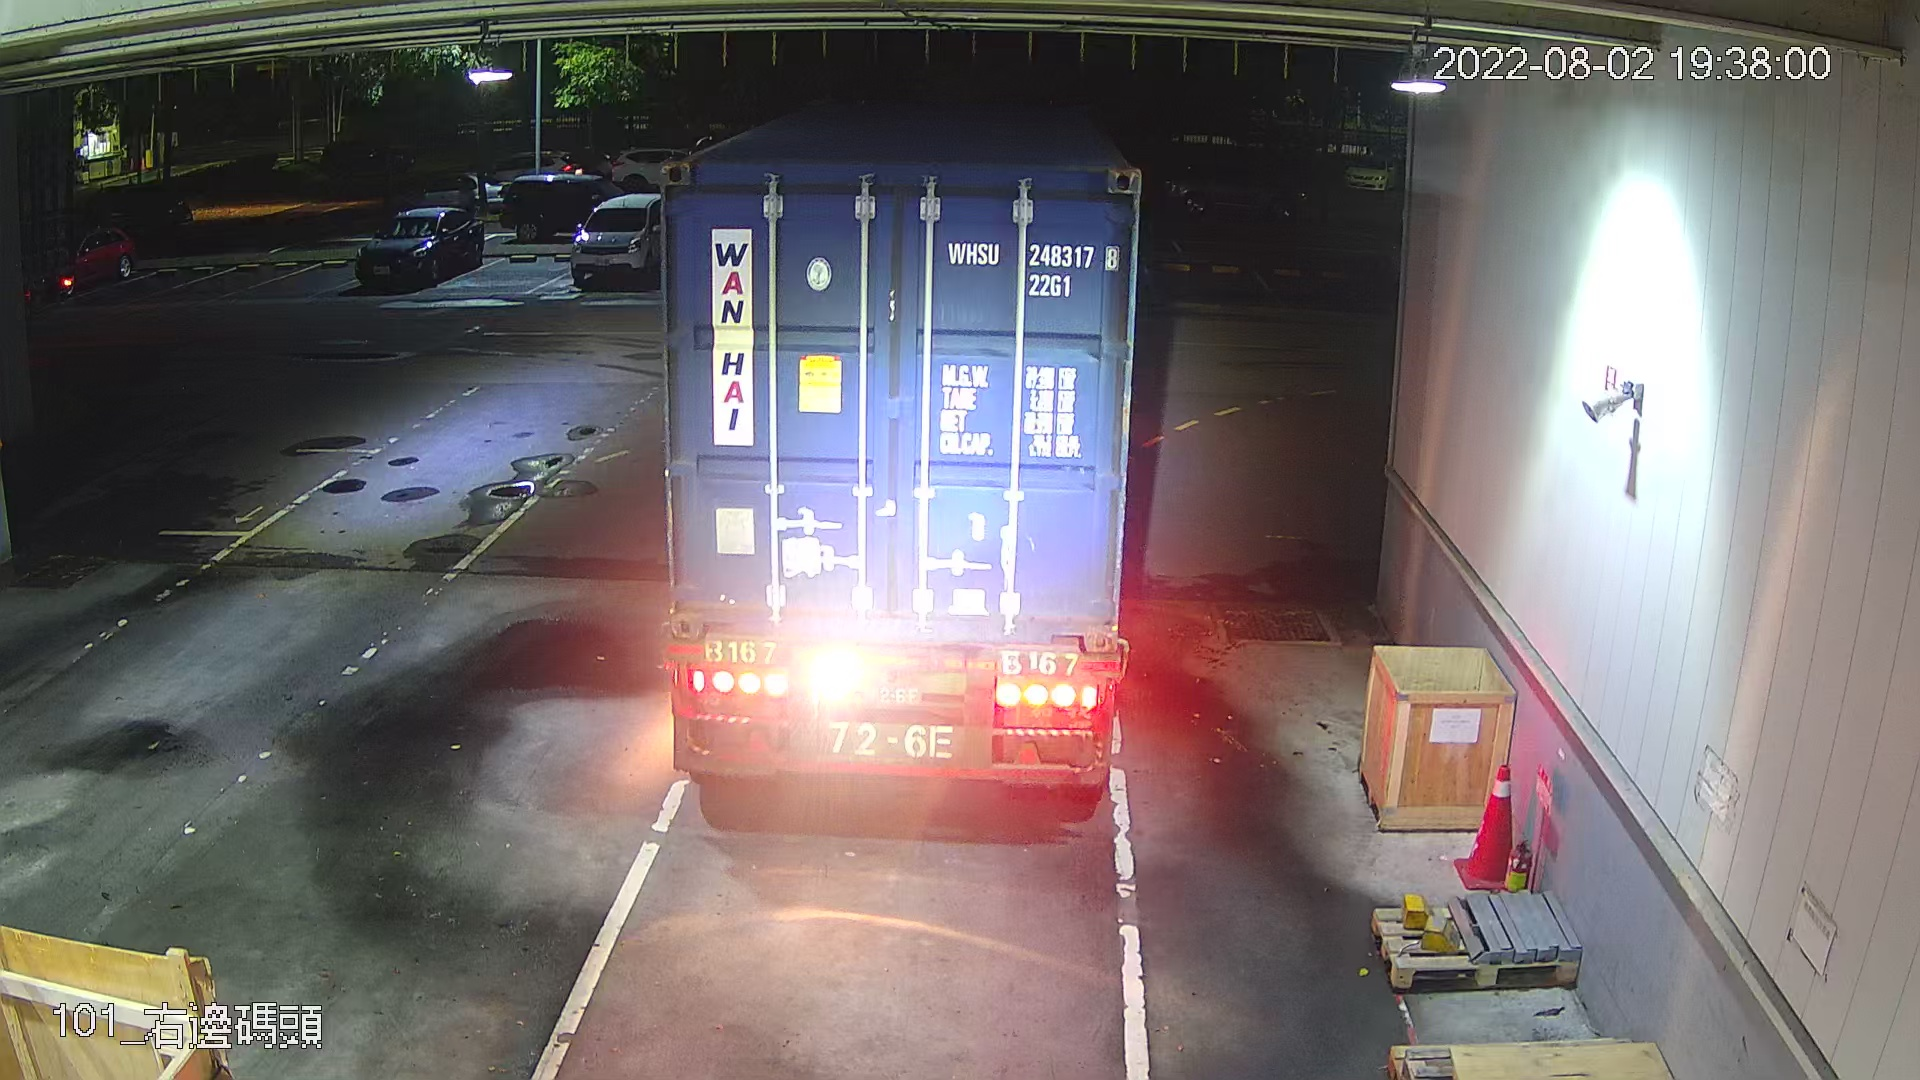container: (938, 235, 1124, 307)
